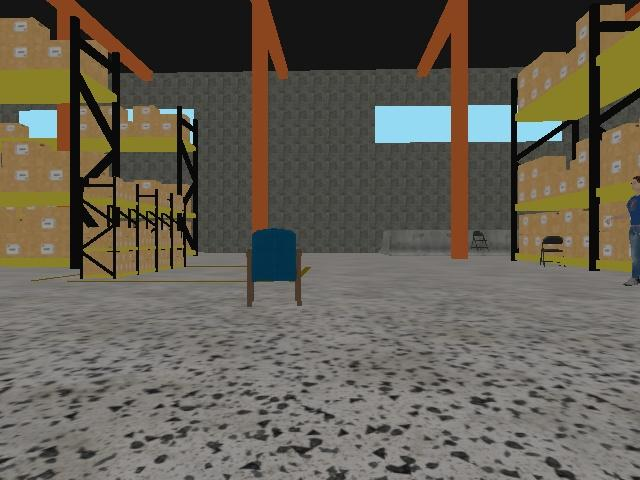chair: (245, 226, 305, 309), (468, 229, 492, 255)
person: (621, 172, 640, 293)
